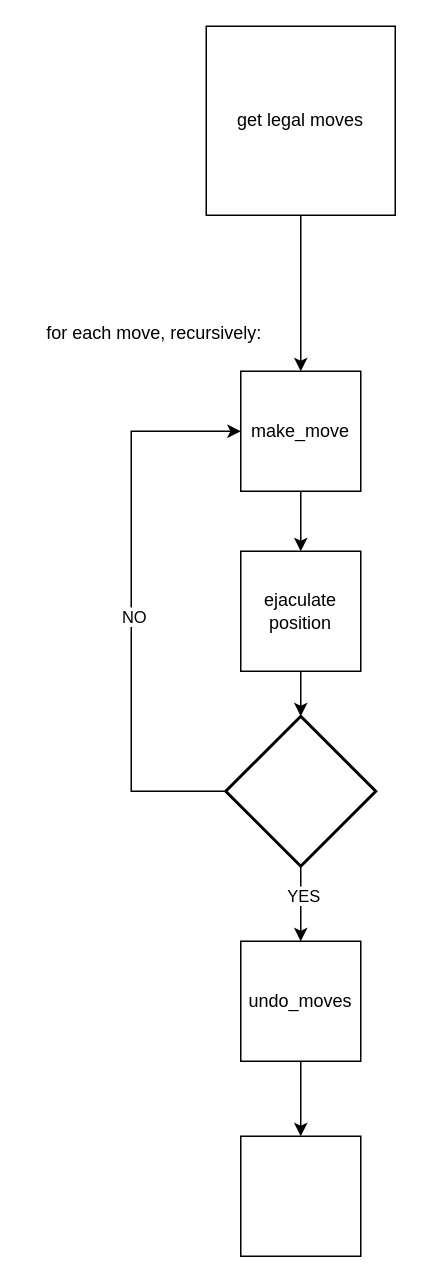
This 422x1283 diagram has some shape labels left out. The shapes that lost their labels are listed below. From the top down, each one's centre as x and y in pixels, then its label:
At point (300, 790): "search depth reached?".
At point (300, 1195): "return best move".
